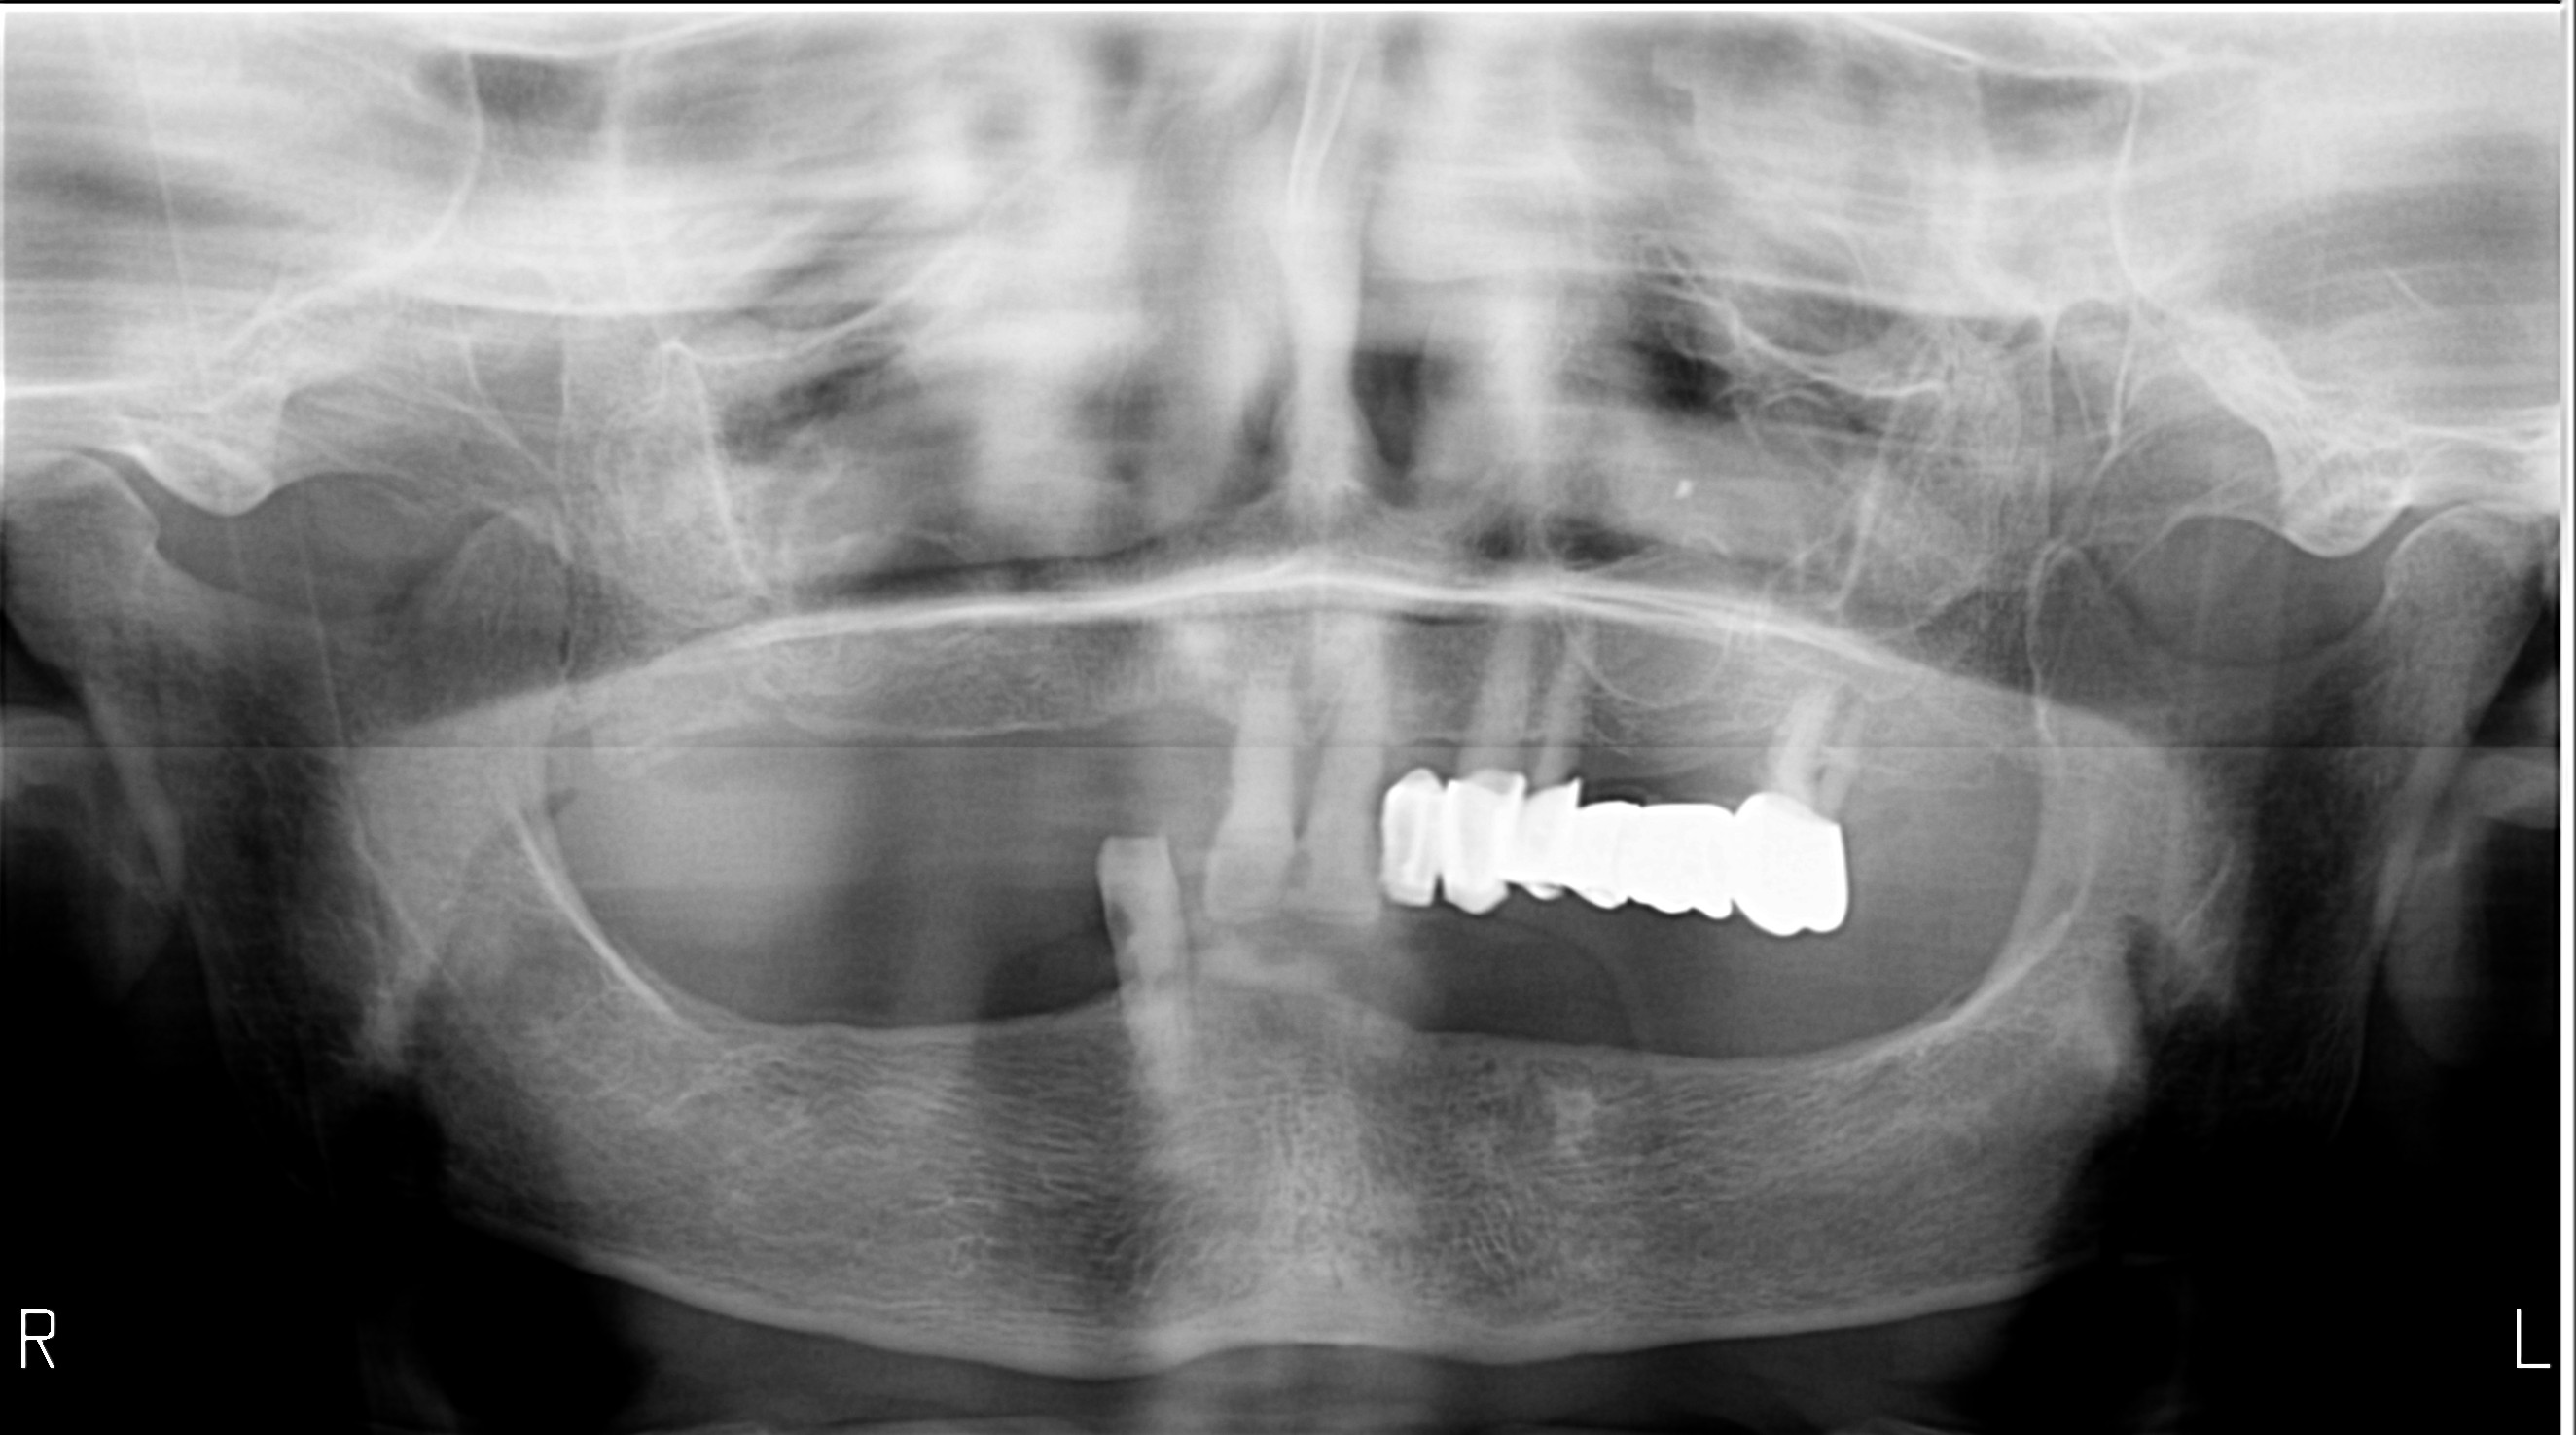PRR: (1352, 751, 1890, 968)
